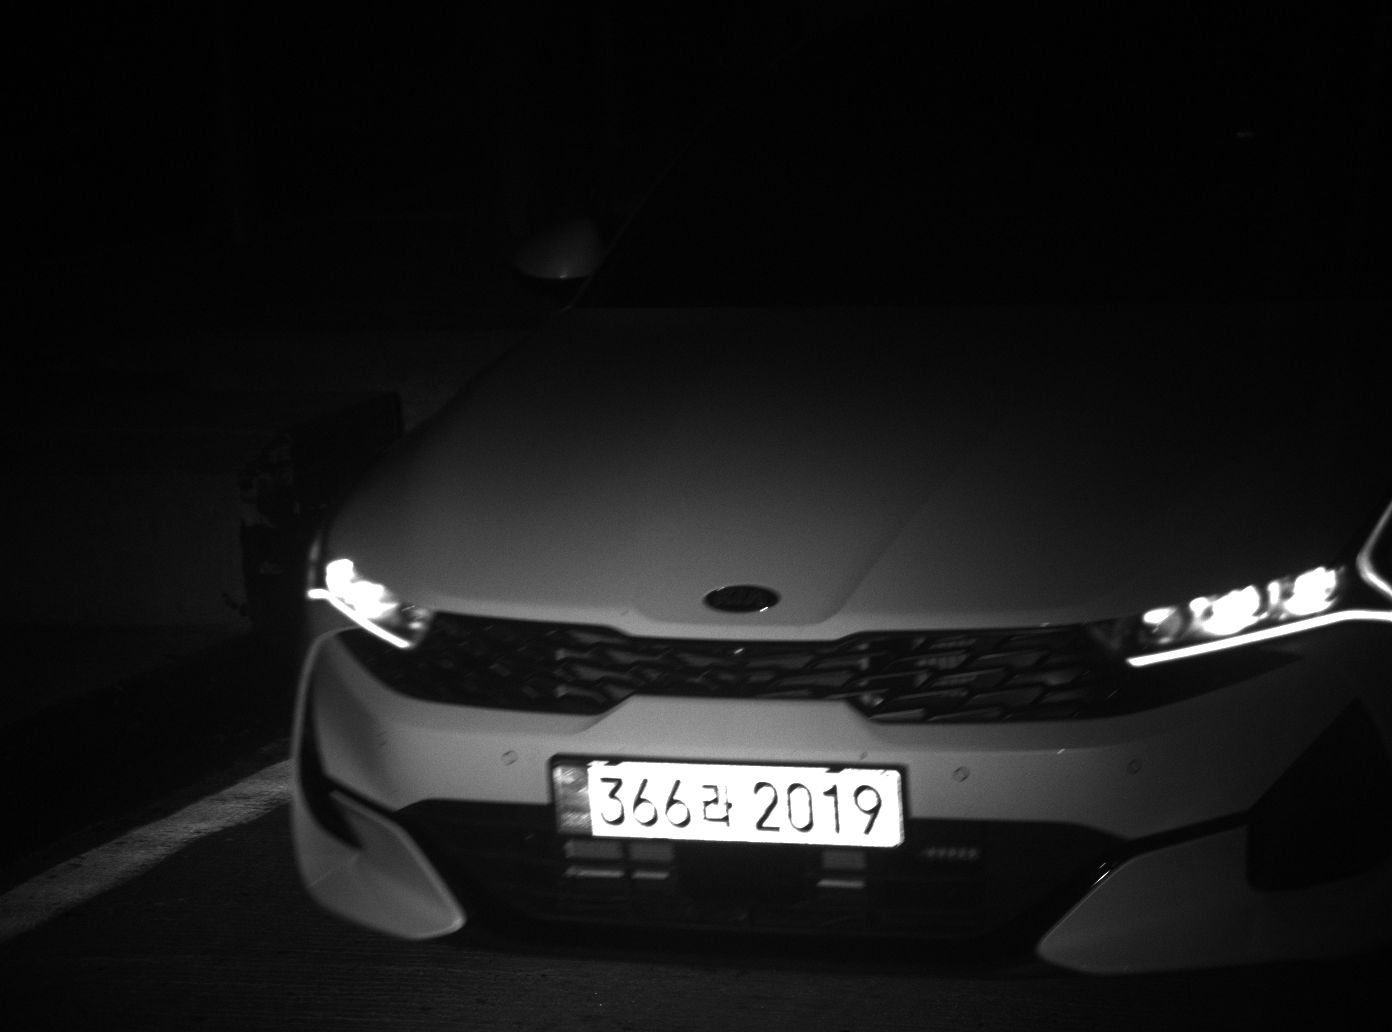car: (293, 1, 1390, 978)
plate: (551, 758, 906, 848)
